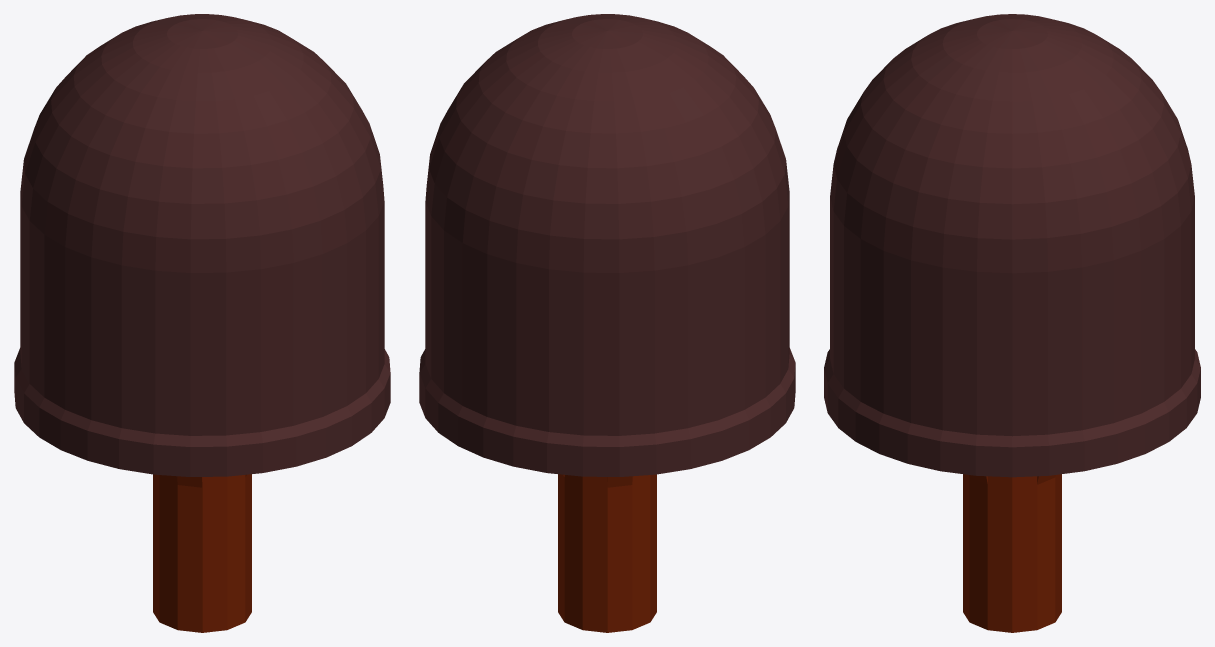
File: norc_4b.obj
3 views of the same model, side by side, from view 1: azimuth 30°, elevation 25°; view 2: azimuth 150°, elevation 25°; view 3: azimuth 270°, elevation 25° (orthographic).
Visible parts, largest first — view 1: body; view 2: body; view 3: body.
Part boxes in pixels (left/top/right/bottom): body: left=14, top=14, right=390, bottom=632; body: left=419, top=14, right=795, bottom=632; body: left=824, top=14, right=1200, bottom=632.
Bounding box in the file's own units: 1.06 × 1.8 × 1.06.
